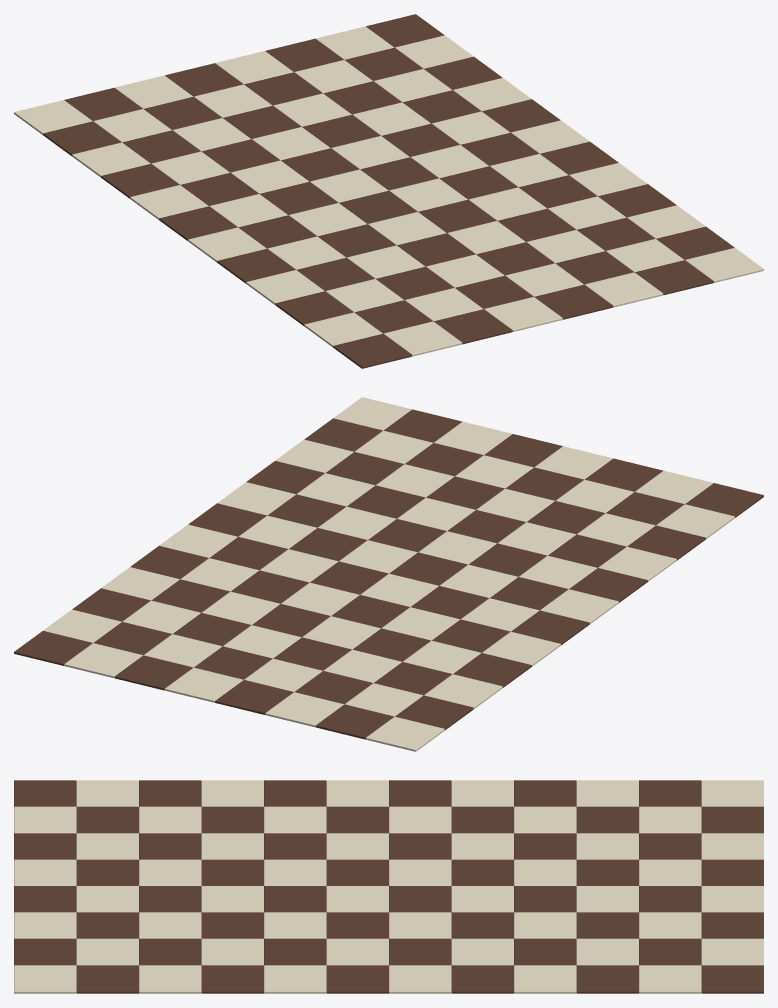
The model's file is checker-rug.glb.
The picture shows the model from 3 angles, top to bottom: view 1: azimuth 30°, elevation 25°; view 2: azimuth 150°, elevation 25°; view 3: azimuth 270°, elevation 25°; orthographic projection. The views are drawn at different scales.
Visible parts, largest first — view 1: checker-rug; view 2: checker-rug; view 3: checker-rug.
Boxes of the visible parts, bbox=[...] form: checker-rug: bbox=[14, 14, 763, 368]; checker-rug: bbox=[14, 397, 763, 751]; checker-rug: bbox=[14, 780, 763, 993].
Bounding box in the file's own units: 2 × 0.0103 × 3.
